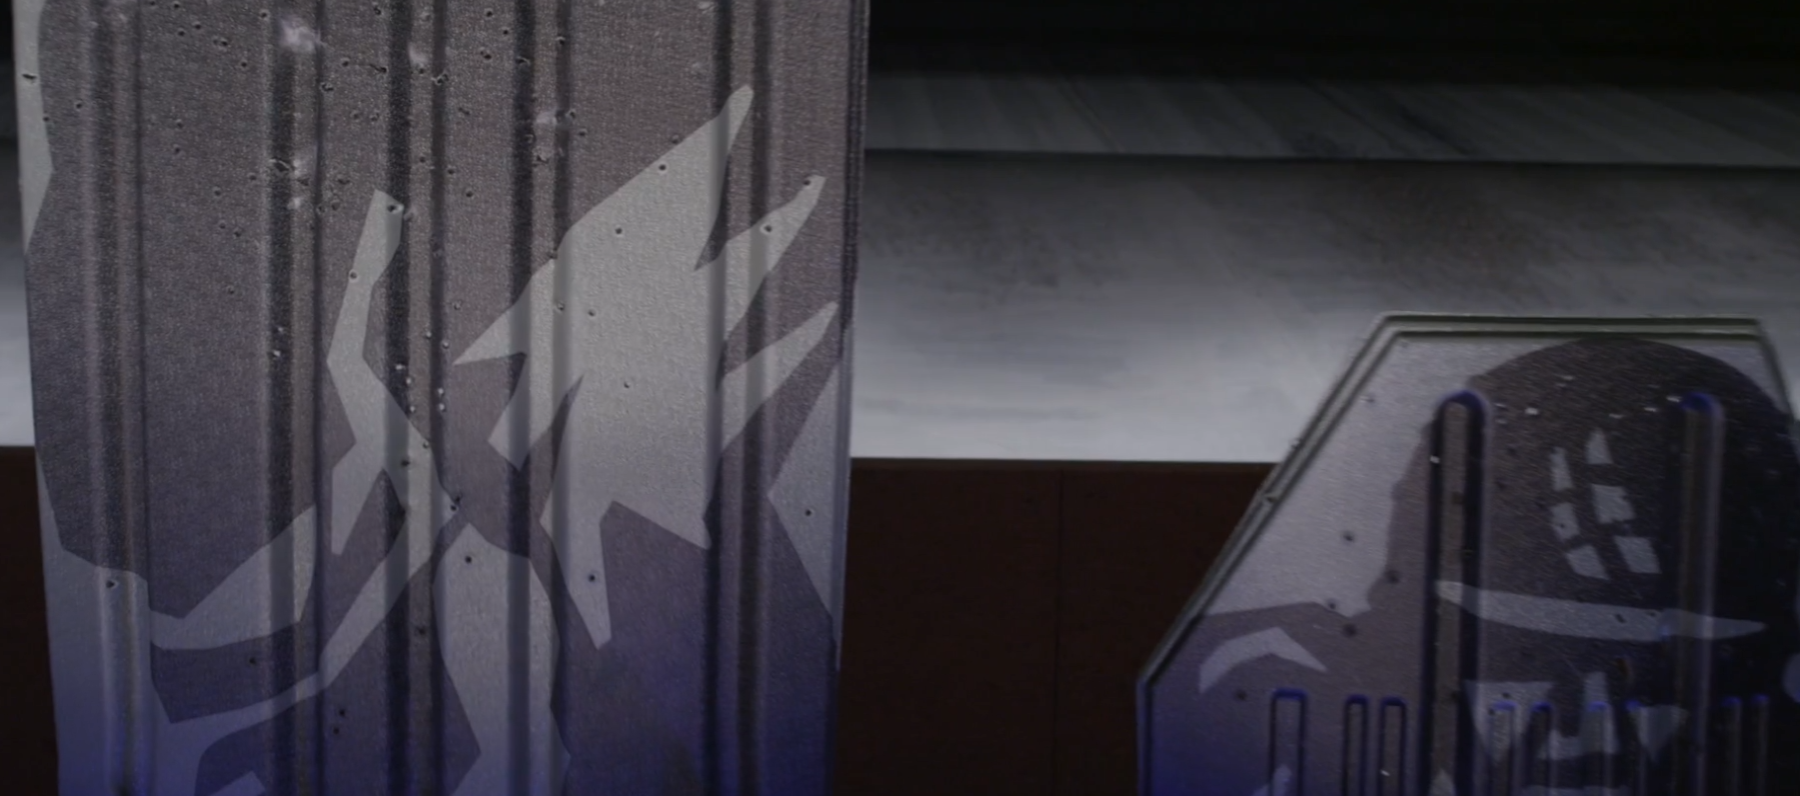HVT1: (15, 0, 860, 793), (1141, 314, 1800, 796)
